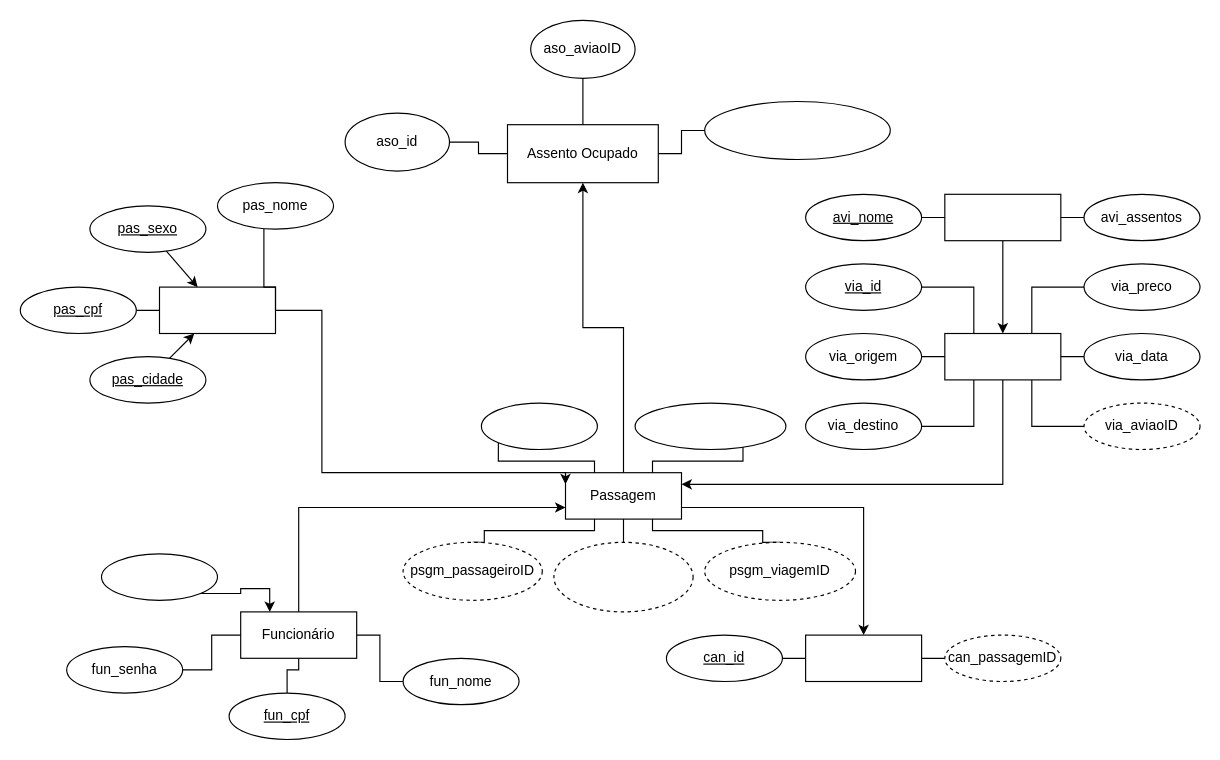
Some shapes in this 1220 by 760 pixel diagram are drawn without their labels. The centre of each missing label's shape, as x and y in pixels:
aso_passagemAssento: the point at 797,130
Avião: the point at 1002,217
Cancelamento: the point at 863,658
fun_sexo: the point at 158,576
Passageiro: the point at 217,310
psgm_funcionarioID: the point at 623,576
psgm_id: the point at 538,425
psgm_NumeroAssento: the point at 710,425
Viagem: the point at 1002,356
